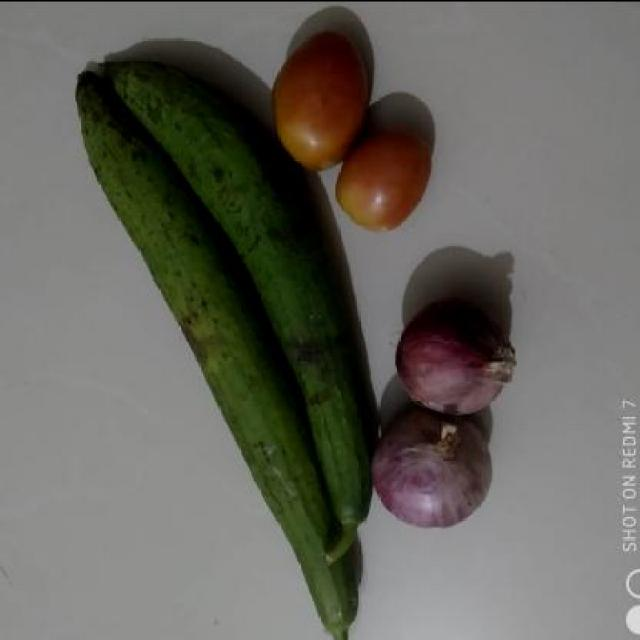onion: (367, 406, 496, 532), (393, 296, 522, 409)
tomato: (272, 24, 371, 168), (336, 129, 435, 226)
